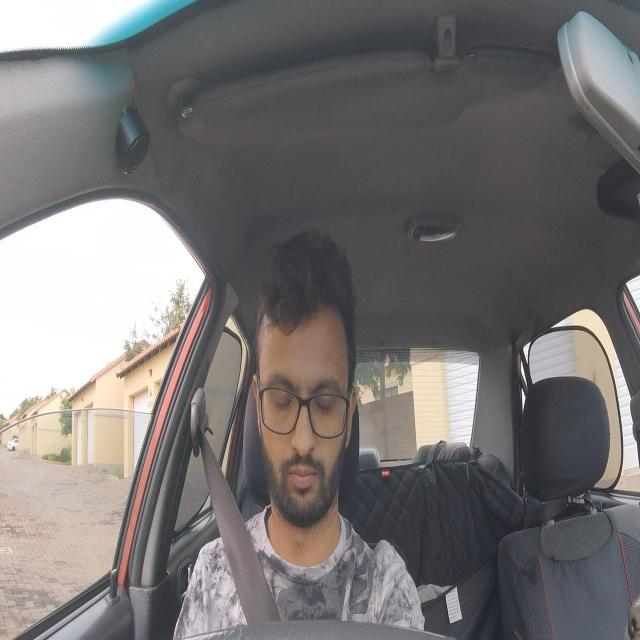close: (311, 376, 341, 418), (268, 371, 294, 417)
